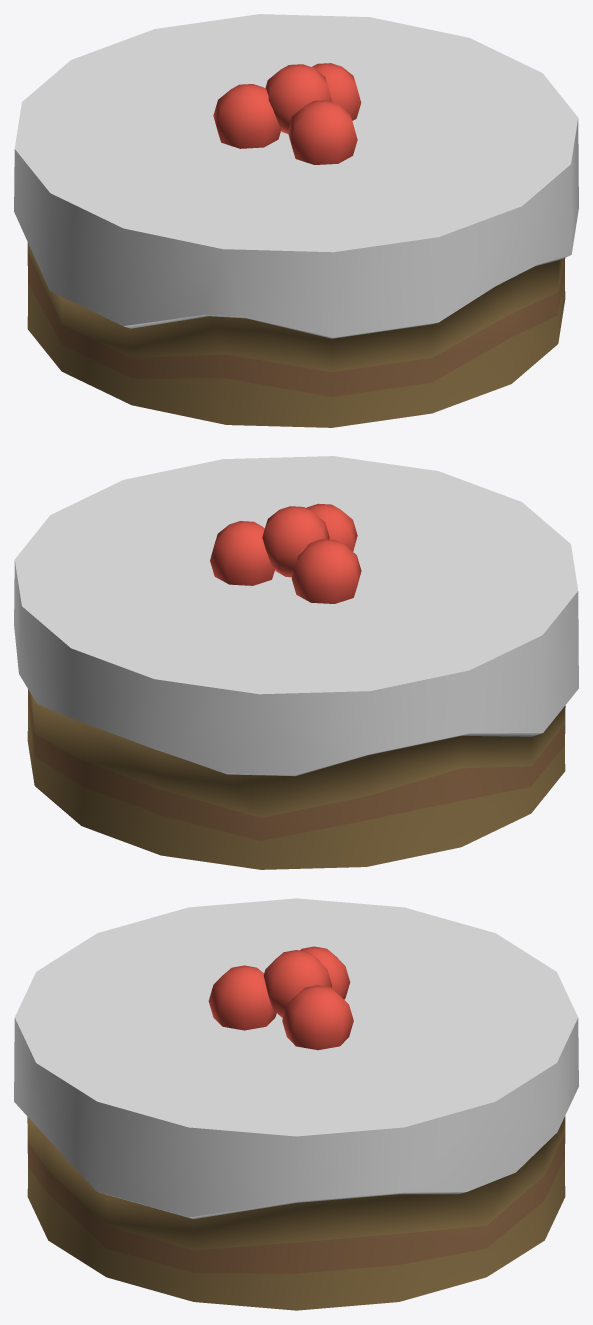
Rendered from Cake.glb.
3 views of the same model, one above another, from view 1: azimuth 30°, elevation 25°; view 2: azimuth 150°, elevation 25°; view 3: azimuth 270°, elevation 25° (orthographic).
Visible parts, largest first — view 1: Cake; view 2: Cake; view 3: Cake.
Boxes of the visible parts, x1,y1,x2,y2 form: Cake: [14, 14, 578, 427]; Cake: [14, 456, 578, 869]; Cake: [14, 898, 578, 1310].
Bounding box in the file's own units: 0.315 × 0.1505 × 0.315.
Materials: 4 (1 with a texture image).
